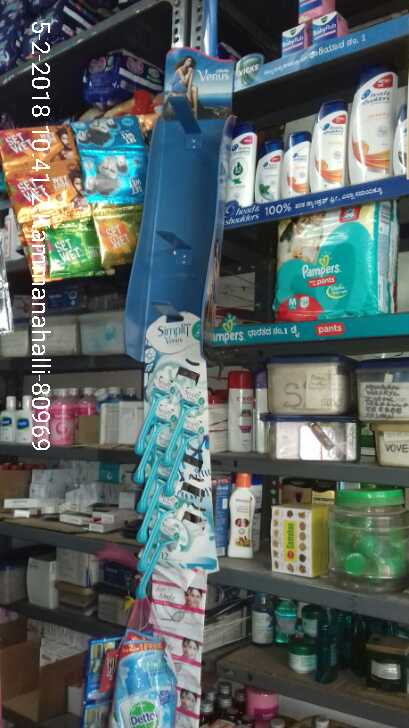beauty: (349, 61, 397, 184), (309, 93, 353, 195), (280, 131, 313, 199), (226, 126, 255, 202), (253, 142, 284, 206)
pharmacy: (274, 204, 389, 320), (306, 5, 347, 34), (272, 23, 308, 53)
